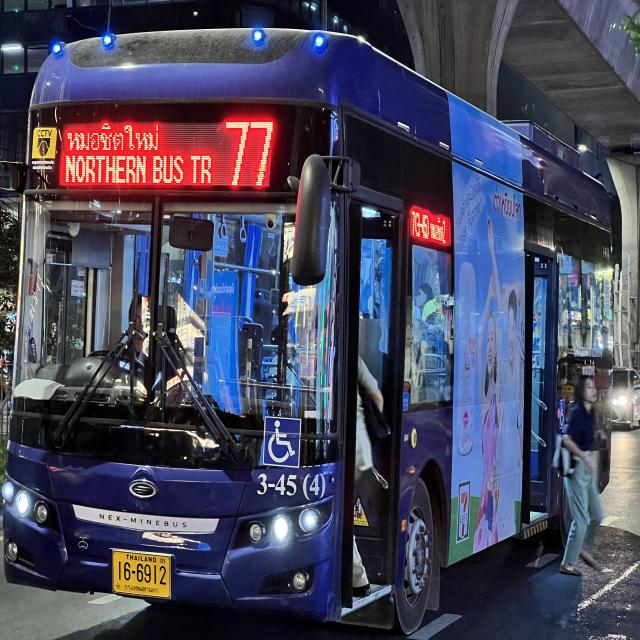Bus-Line-Number: (218, 111, 278, 195)
Destination-Sign-Normal: (62, 118, 216, 192)
TSB-Bus: (0, 18, 621, 639)
